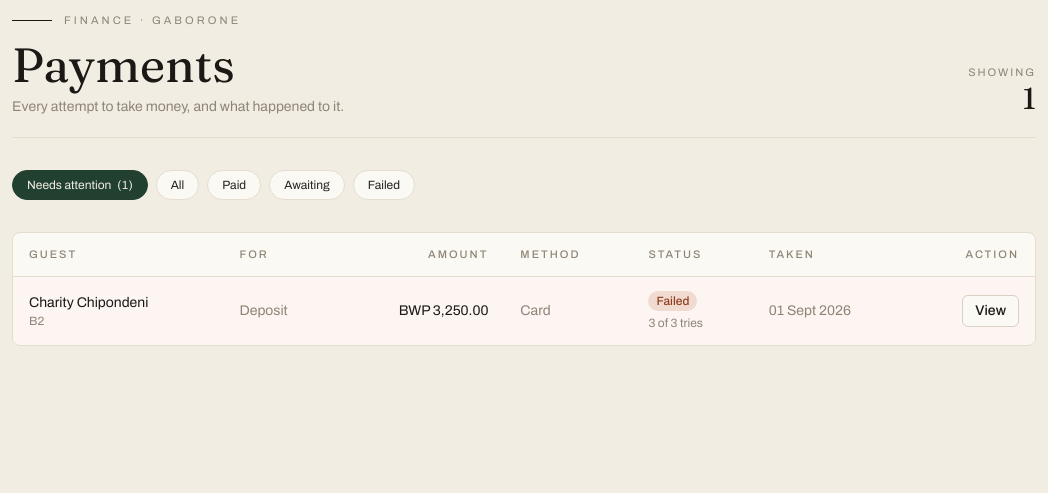
Test case: PaymentsPage › labels a settlement with no recorded method honestly, not as raw OTHER
Click the button "All".
click(177, 184)  # box [156,170,199,200]
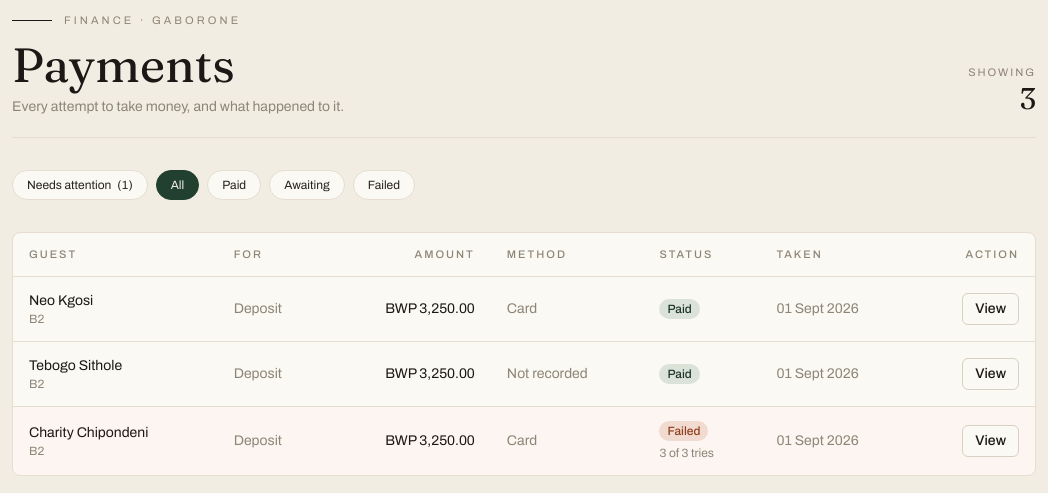
Result: the text "Not recorded" is shown at [491,342,644,407]
